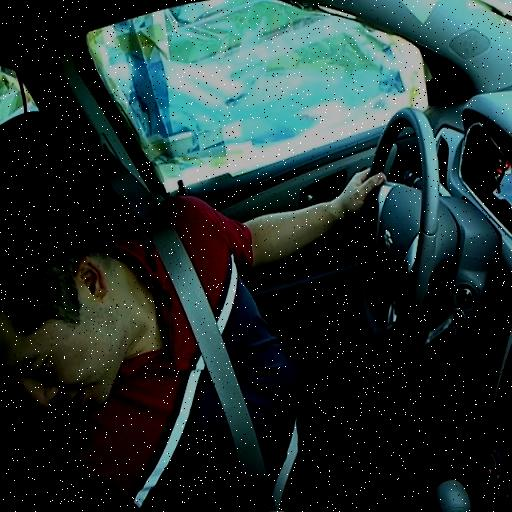turning: (6, 162, 448, 459)
